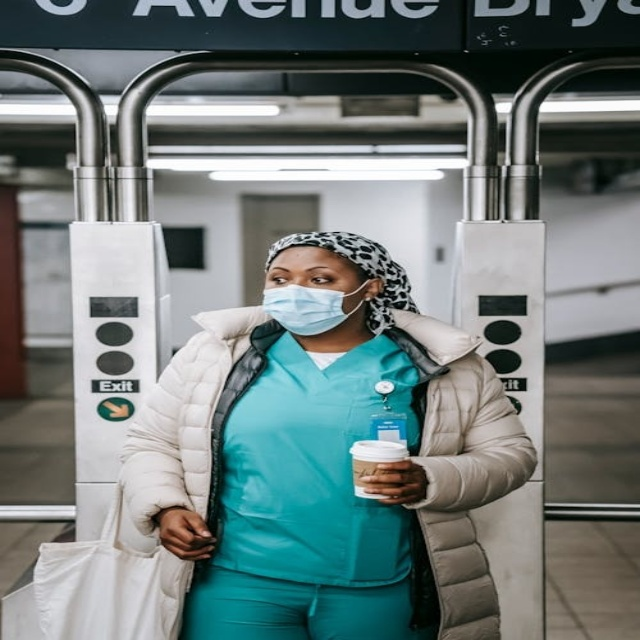Mascara: (261, 279, 367, 335)
Sin_gafas: (264, 265, 355, 285)
Sin_guantes: (152, 505, 221, 562), (356, 460, 427, 505)
